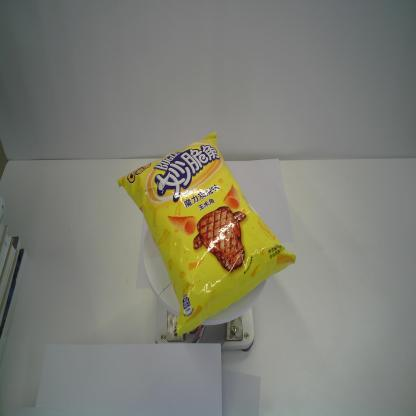Puffed Food: (117, 131, 296, 337)
